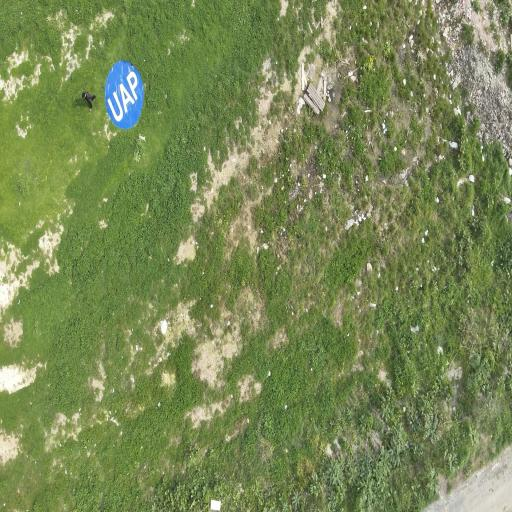UAP: (104, 60, 143, 127)
person: (82, 91, 94, 110)
